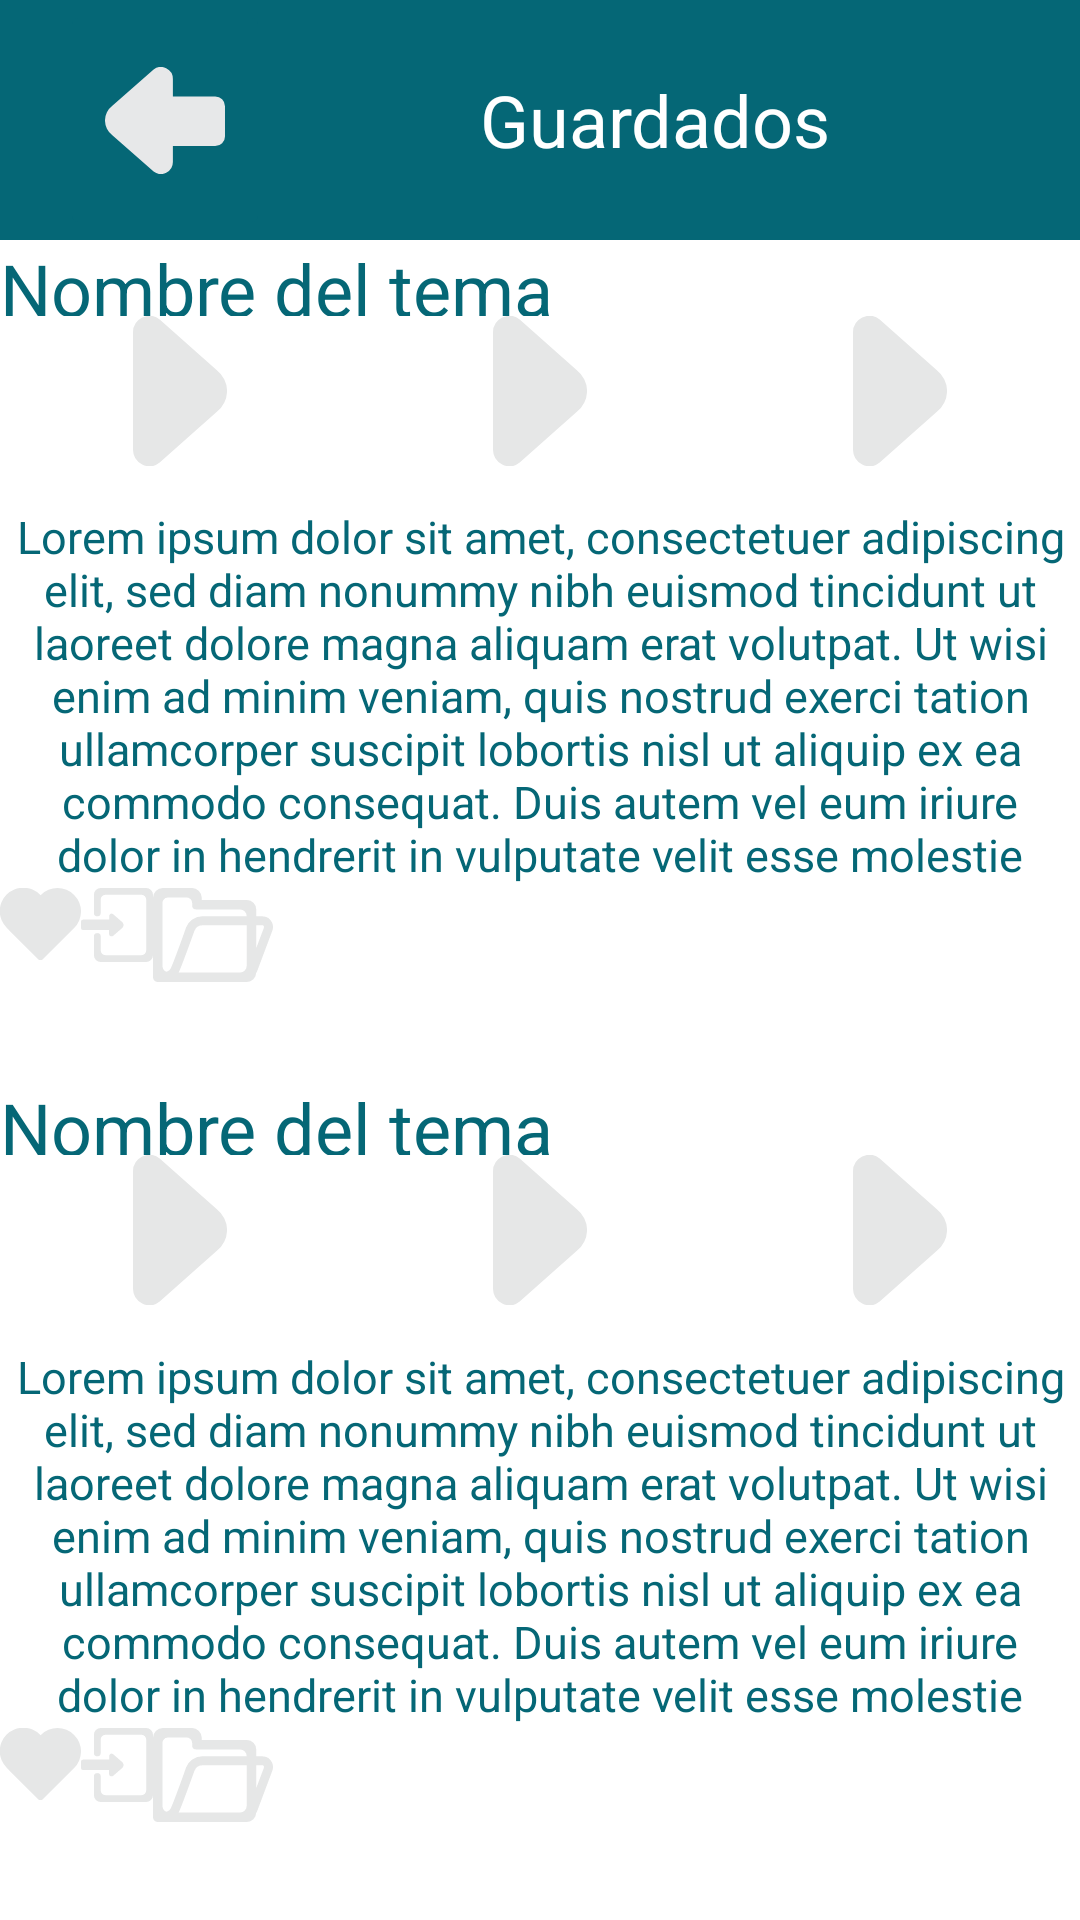

Icon click points for this 1080px x 1920px phone screenshot, format point (x, y):
carpeta linea: point (213, 935), point (213, 1775)
corazon relleno: point (40, 924), point (40, 1764)
flechaatras: point (165, 120)
play: point (180, 391), point (540, 391), point (900, 391), point (180, 1230), point (540, 1230), point (900, 1230)
